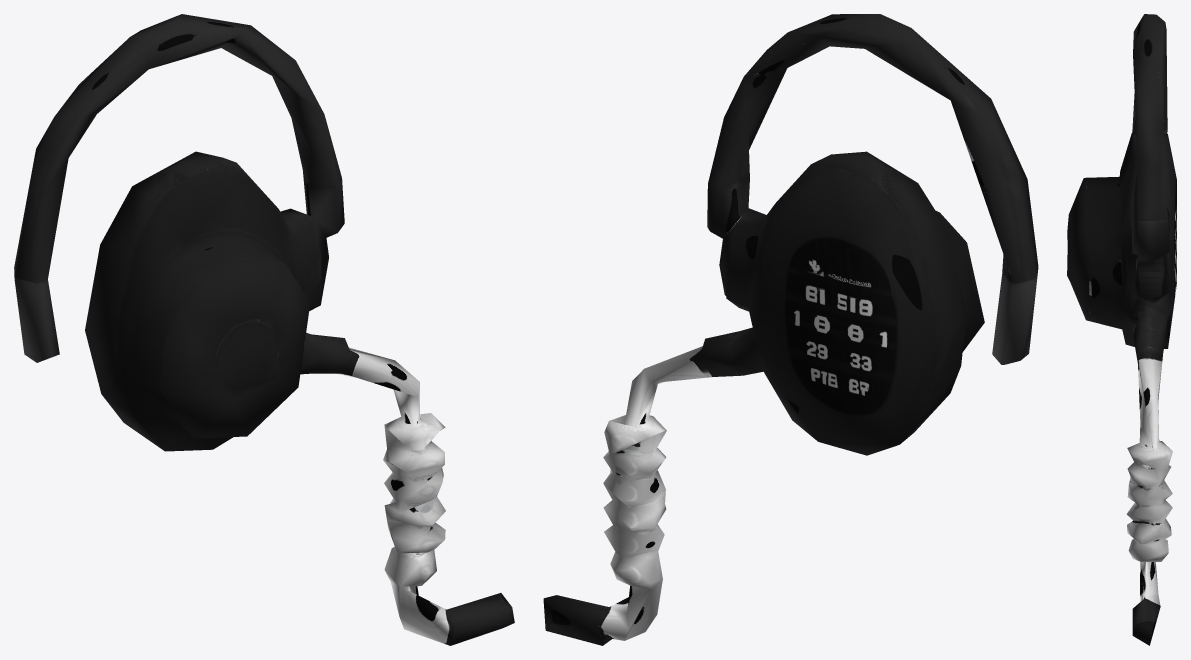
Rendered from Meshy_AI_Black_over_ear_headse_0512103424_texture.fbx.
The picture shows the model from 3 angles, left to right: view 1: azimuth 30°, elevation 25°; view 2: azimuth 150°, elevation 25°; view 3: azimuth 270°, elevation 25°; orthographic projection. The views are drawn at different scales.
Visible parts, largest first — view 1: Mesh1.0; view 2: Mesh1.0; view 3: Mesh1.0.
Boxes of the visible parts, x1,y1,x2,y2 form: Mesh1.0: (14,14,514,645); Mesh1.0: (543,14,1038,645); Mesh1.0: (1067,14,1176,645).
Size of the model in its own units: 141 by 191 by 37.39.
Materials: 1 (1 with a texture image).
